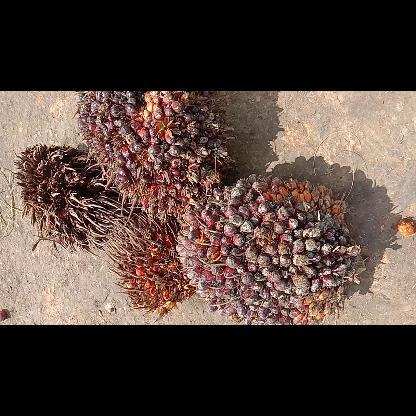Janjang kosong: (9, 142, 136, 258)
Kurang masak: (174, 172, 372, 324)
TBS masak: (69, 92, 237, 224)
Terlalu masak: (106, 211, 204, 318)
